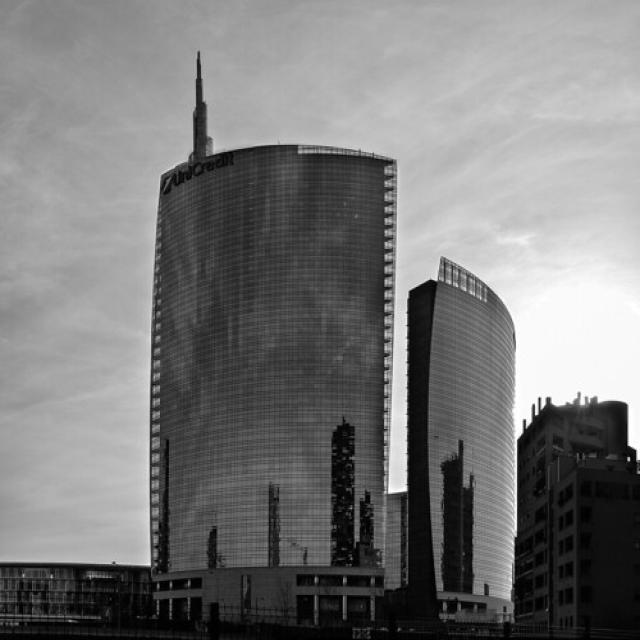building: (143, 137, 401, 607), (406, 252, 520, 634)
